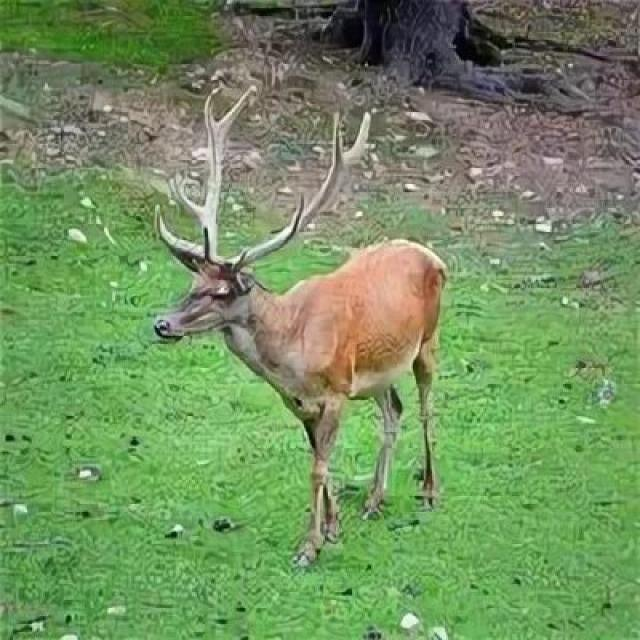deer: (88, 102, 504, 565)
